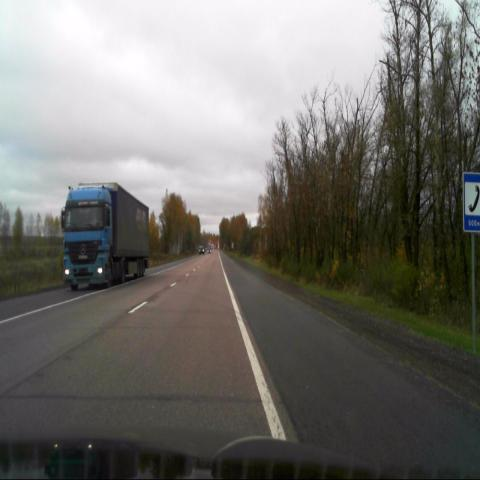7_6: (462, 172, 480, 232)
